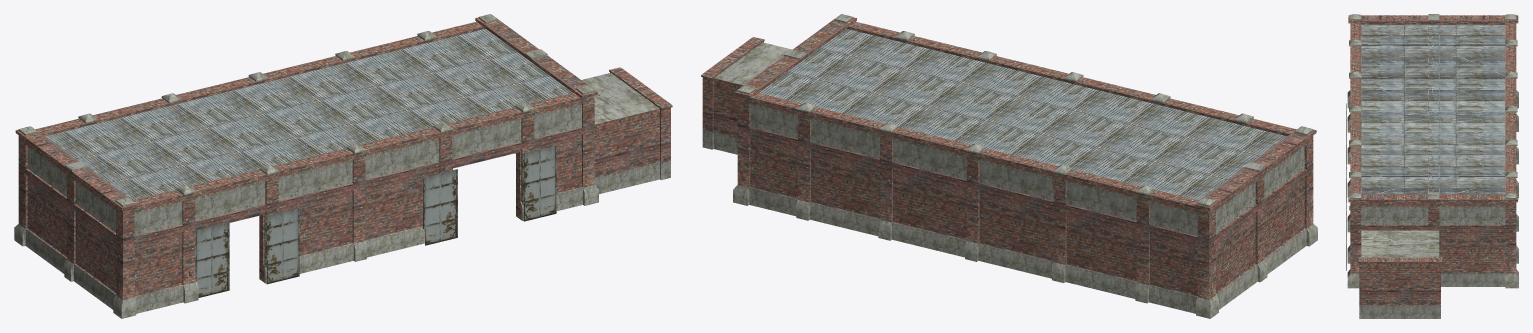
File: building_7_lod1.FBX
3 renders of one model, left to right at view 1: azimuth 30°, elevation 25°; view 2: azimuth 150°, elevation 25°; view 3: azimuth 270°, elevation 25°, orthographic. The views are drawn at different scales.
Visible parts, largest first — view 1: Mesh Object; view 2: Mesh Object; view 3: Mesh Object.
Part boxes in pixels (box(x1,y1,x2,y2)): Mesh Object: box(14, 14, 672, 318); Mesh Object: box(701, 14, 1317, 318); Mesh Object: box(1346, 14, 1518, 318).
Bounding box in the file's own units: 199 × 39.19 × 66.9.
